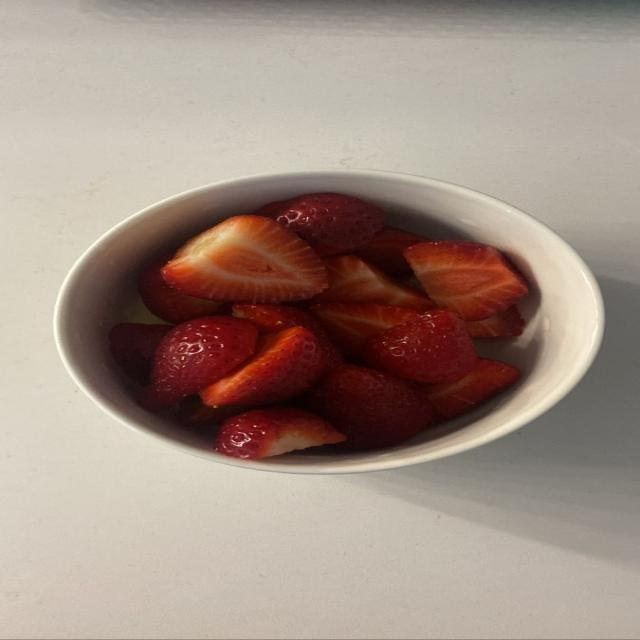strawberry sliced: (162, 216, 327, 302), (140, 317, 257, 411), (311, 365, 432, 450), (201, 327, 326, 406), (405, 241, 528, 320), (363, 309, 475, 382), (233, 304, 344, 369), (313, 255, 434, 311), (216, 408, 345, 458), (139, 254, 223, 324), (424, 358, 520, 419), (276, 193, 384, 247), (310, 303, 420, 355), (350, 227, 428, 275), (110, 323, 171, 383), (178, 395, 247, 433), (466, 307, 525, 338), (254, 200, 289, 219), (313, 245, 351, 257)
